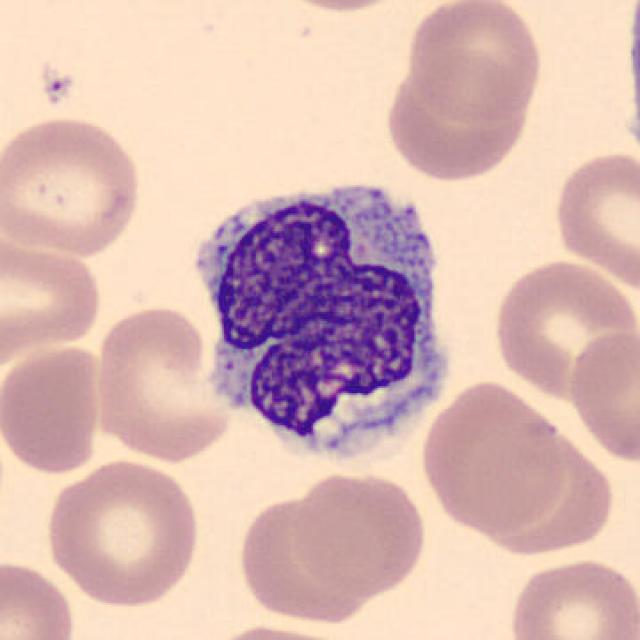Monocyte: (183, 164, 464, 481)
RBC: (41, 455, 203, 610), (416, 377, 571, 538), (90, 302, 237, 464), (0, 111, 148, 259), (489, 256, 636, 402), (380, 55, 537, 185), (233, 487, 373, 628), (286, 467, 428, 598), (403, 0, 548, 125), (470, 438, 618, 560), (0, 338, 108, 477), (547, 144, 640, 292), (0, 236, 105, 360), (503, 553, 638, 640), (566, 326, 638, 466), (0, 555, 78, 640), (192, 620, 362, 640), (261, 0, 416, 14)
